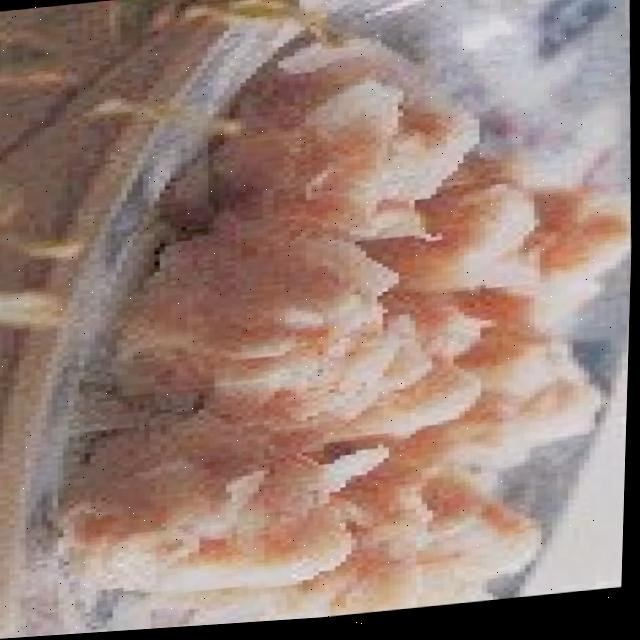带馅早点: (52, 19, 639, 636)
